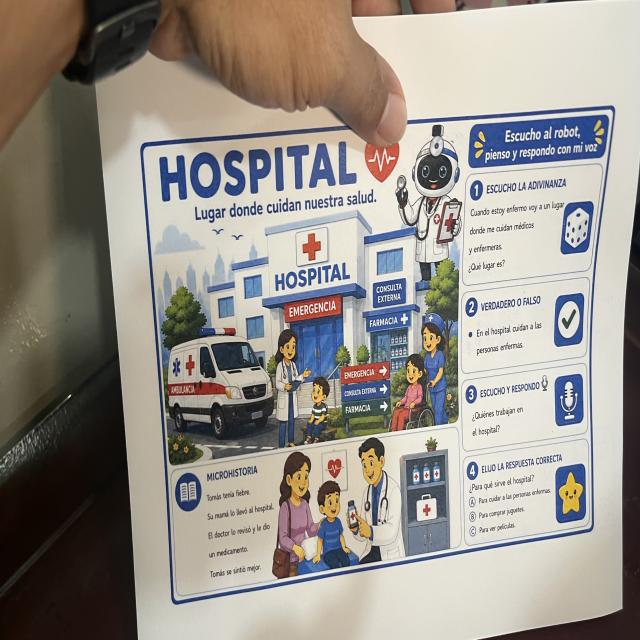hospital: (137, 102, 618, 611)
